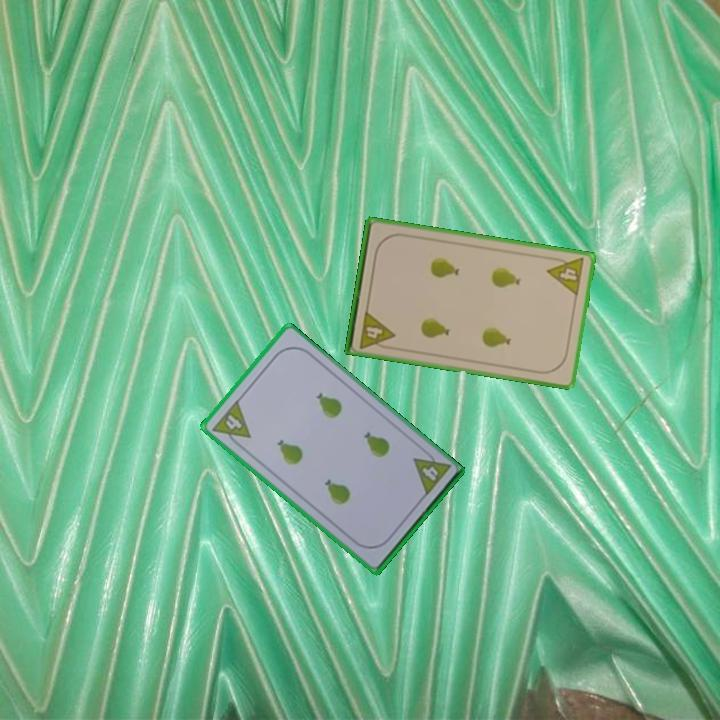4p: (208, 397, 253, 451), (410, 445, 453, 499), (544, 253, 587, 299), (356, 307, 397, 352)
